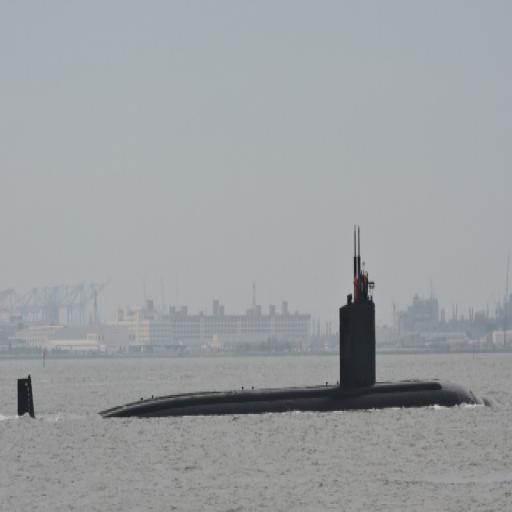submarine: (17, 207, 494, 423)
